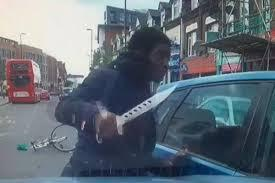Knife: (56, 28, 179, 177), (116, 85, 176, 132), (96, 112, 120, 140)
